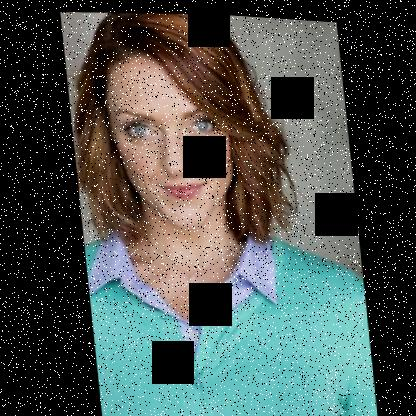Female: (102, 43, 235, 231)
